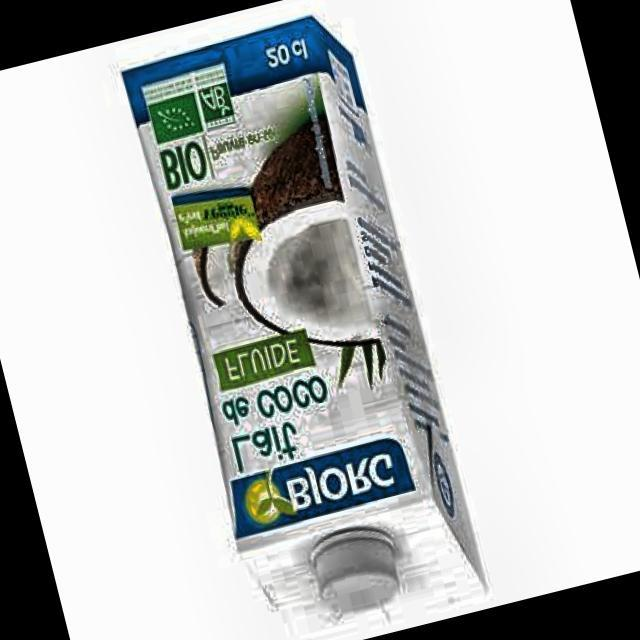cardboard: (113, 7, 491, 640)
